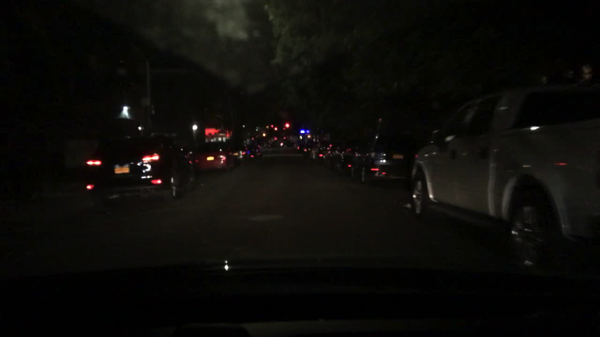car: (410, 83, 599, 268), (82, 130, 196, 213), (350, 133, 418, 186), (188, 141, 235, 174), (334, 146, 355, 175), (230, 142, 250, 163), (323, 147, 339, 167), (247, 144, 263, 159), (316, 145, 328, 163), (308, 144, 317, 161), (301, 144, 309, 156), (293, 141, 300, 150)
